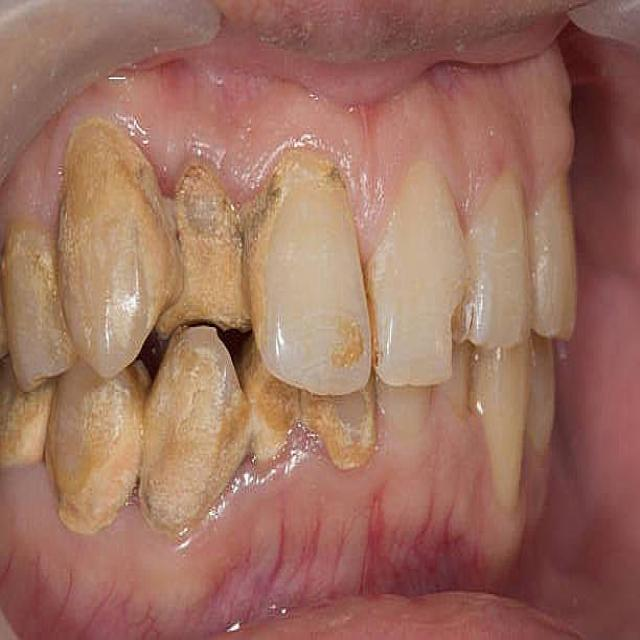caries: (431, 272, 480, 390)
